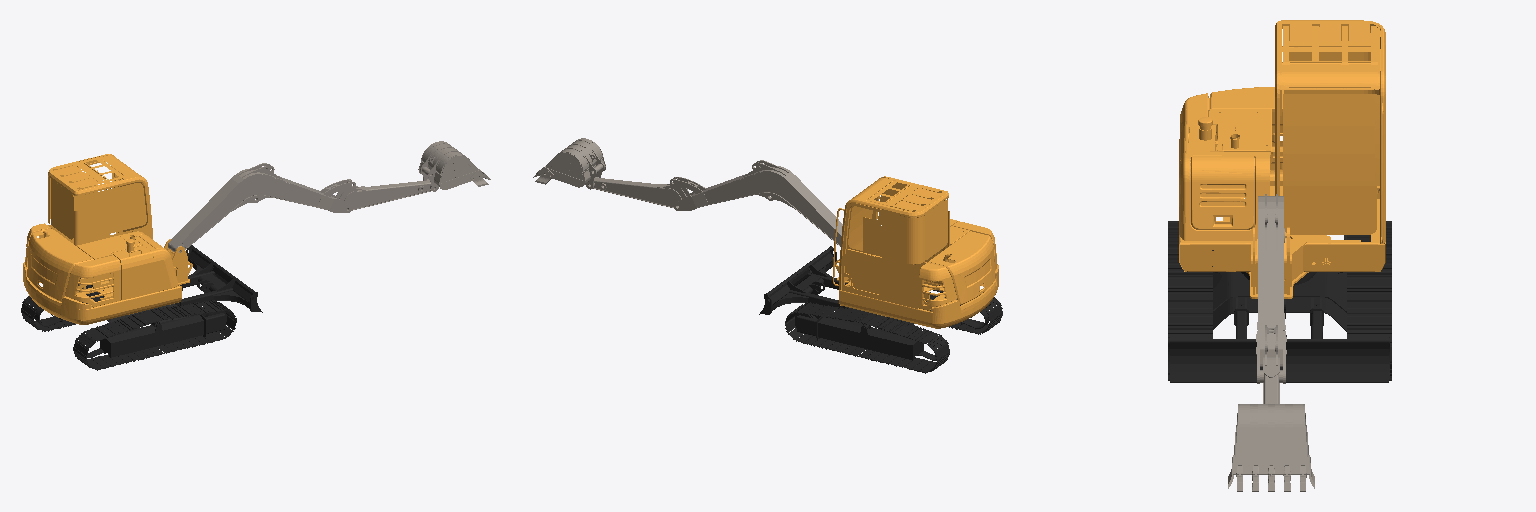
URDF robot description (marm_description):
<robot
  name="marm_description">
  <link
    name="base_link">
    <inertial>
      <origin
        xyz="0.89793 0.0045944 0.30758"
        rpy="0 0 0" />
      <mass
        value="267.05" />
      <inertia
        ixx="155.01"
        ixy="-0.23079"
        ixz="-7.049"
        iyy="160.78"
        iyz="0.044583"
        izz="307.7" />
    </inertial>
    <visual>
      <origin
        xyz="0 0 0"
        rpy="0 0 0" />
      <geometry>
        <mesh
          filename="package://marm_description/meshes/base_link.STL" />
      </geometry>
      <material
        name="">
        <color
          rgba="0.2 0.2 0.2 1" />
      </material>
    </visual>
    <collision>
      <origin
        xyz="0 0 0"
        rpy="0 0 0" />
      <geometry>
        <mesh
          filename="package://marm_description/meshes/base_link.STL" />
      </geometry>
    </collision>
  </link>
  <link
    name="link1">
    <inertial>
      <origin
        xyz="2.5943 -0.055035 0.74987"
        rpy="0 0 0" />
      <mass
        value="1896.7" />
      <inertia
        ixx="718.49"
        ixy="87.982"
        ixz="-301.34"
        iyy="4912.8"
        iyz="23.826"
        izz="4533.7" />
    </inertial>
    <visual>
      <origin
        xyz="0 0 0"
        rpy="0 0 0" />
      <geometry>
        <mesh
          filename="package://marm_description/meshes/link1.STL" />
      </geometry>
      <material
        name="">
        <color
          rgba="1 0.72157 0.32941 1" />
      </material>
    </visual>
    <collision>
      <origin
        xyz="0 0 0"
        rpy="0 0 0" />
      <geometry>
        <mesh
          filename="package://marm_description/meshes/link1.STL" />
      </geometry>
    </collision>
  </link>
  <joint
    name="joint1"
    type="continuous">
    <origin
      xyz="0 0 0.72143"
      rpy="0 0 0" />
    <parent
      link="base_link" />
    <child
      link="link1" />
    <axis
      xyz="0 0 1" />
<!--    <limit
      lower="-3.14"
      upper="3.14"
      effort="0"
      velocity="0" />  !-->
  </joint>
  <link
    name="link2">
    <inertial>
      <origin
        xyz="1.4069 0.51583 0.00043141"
        rpy="0 0 0" />
      <mass
        value="1149.7" />
      <inertia
        ixx="62.889"
        ixy="-4.0888"
        ixz="-0.60716"
        iyy="575.38"
        iyz="0.16274"
        izz="629.63" />
    </inertial>
    <visual>
      <origin
        xyz="0 0 0"
        rpy="0 0 0" />
      <geometry>
        <mesh
          filename="package://marm_description/meshes/link2.STL" />
      </geometry>
      <material
        name="">
        <color
          rgba="0.64706 0.61961 0.58824 1" />
      </material>
    </visual>
    <collision>
      <origin
        xyz="0 0 0"
        rpy="0 0 0" />
      <geometry>
        <mesh
          filename="package://marm_description/meshes/link2.STL" />
      </geometry>
    </collision>
  </link>
  <joint
    name="joint2"
    type="continuous">
    <origin
      xyz="0.78 -0.07 0.548"
      rpy="1.5708 0 0" />
    <parent
      link="link1" />
    <child
      link="link2" />
    <axis
      xyz="0 0 1" />
<!--     <limit
      lower="-0.1719"
      upper="1.1526"
      effort="0"
      velocity="0" /> !-->
  </joint>
  <link
    name="link3">
    <inertial>
      <origin
        xyz="0.64616 0.054458 1.9617E-05"
        rpy="0 0 0" />
      <mass
        value="308.3" />
      <inertia
        ixx="1.9786"
        ixy="3.3846"
        ixz="0.0039077"
        iyy="62.708"
        iyz="0.00032934"
        izz="63.701" />
    </inertial>
    <visual>
      <origin
        xyz="0 0 0"
        rpy="0 0 0" />
      <geometry>
        <mesh
          filename="package://marm_description/meshes/link3.STL" />
      </geometry>
      <material
        name="">
        <color
          rgba="0.64706 0.61961 0.58824 1" />
      </material>
    </visual>
    <collision>
      <origin
        xyz="0 0 0"
        rpy="0 0 0" />
      <geometry>
        <mesh
          filename="package://marm_description/meshes/link3.STL" />
      </geometry>
    </collision>
  </link>
  <joint
    name="joint3"
    type="continuous">
    <origin
      xyz="3 0 -0.0005"
      rpy="0 0 0" />
    <parent
      link="link2" />
    <child
      link="link3" />
    <axis
      xyz="0 0 1" />
 <!--  <limit
      lower="-2.5265"
      upper="-0.5544"
      effort="0"
      velocity="0" />!-->  
  </joint>
  <link
    name="link4">
    <inertial>
      <origin
        xyz="0.22788 0.1819 0.02514"
        rpy="0 0 0" />
      <mass
        value="136.04" />
      <inertia
        ixx="8.3836"
        ixy="-0.63526"
        ixz="-0.39851"
        iyy="17.276"
        iyz="0.19387"
        izz="14.026" />
    </inertial>
    <visual>
      <origin
        xyz="0 0 0"
        rpy="0 0 0" />
      <geometry>
        <mesh
          filename="package://marm_description/meshes/link4.STL" />
      </geometry>
      <material
        name="">
        <color
          rgba="0.64706 0.61961 0.58824 1" />
      </material>
    </visual>
    <collision>
      <origin
        xyz="0 0 0"
        rpy="0 0 0" />
      <geometry>
        <mesh
          filename="package://marm_description/meshes/link4.STL" />
      </geometry>
    </collision>
  </link>
  <joint
    name="joint4"
    type="continuous">
    <origin
      xyz="1.55 0 -0.0005"
      rpy="0 0 0" />
    <parent
      link="link3" />
    <child
      link="link4" />
    <axis
      xyz="0 0 1" />
<!--     <limit
      lower="-2.4107"
      upper="0.578"
      effort="0"
      velocity="0" />!-->
  </joint>
  <link
    name="tip_link" />
  <joint
    name="tip_joint"
    type="fixed">
    <origin
      xyz="0.89258 0 0"
      rpy="0 0 0" />
    <parent
      link="link4" />
    <child
      link="tip_link" />
    <axis
      xyz="0 0 0" />
  </joint>
</robot>

--- Facts derived from the render (not from the file) ---
3 views of the same robot in one strip: view 1: azimuth 30°, elevation 25°; view 2: azimuth 150°, elevation 25°; view 3: azimuth 270°, elevation 25° (orthographic).
Model marm_description with 6 links and 5 joints (4 continuous, 1 fixed), rooted at base_link, posed every joint at zero.
Links seen in each view (by area): view 1: link1, base_link, link2, link4, link3; view 2: link1, base_link, link2, link4, link3; view 3: link1, base_link, link4, link2, link3.
Link boxes in pixels (x1,y1,x2,y2): link1: (23,154,192,324); base_link: (21,245,262,370); link2: (168,163,351,252); link4: (418,141,490,191); link3: (319,179,434,210); link1: (833,176,998,328); base_link: (759,246,1002,373); link2: (674,160,842,246); link4: (533,138,605,189); link3: (589,177,705,207); link1: (1179,20,1385,298); base_link: (1168,221,1391,382); link4: (1228,403,1314,491); link2: (1256,194,1286,383); link3: (1260,325,1282,403).
Size in the robot's own frame: 7.82 by 2.02 by 2.61 metres.
5 mesh visuals loaded from 5 distinct referenced files (5 binary STL).
